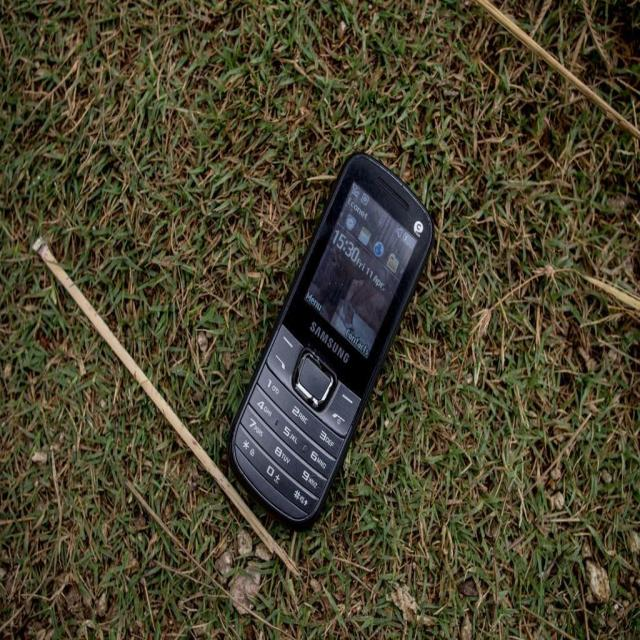Phone: (231, 149, 434, 527)
